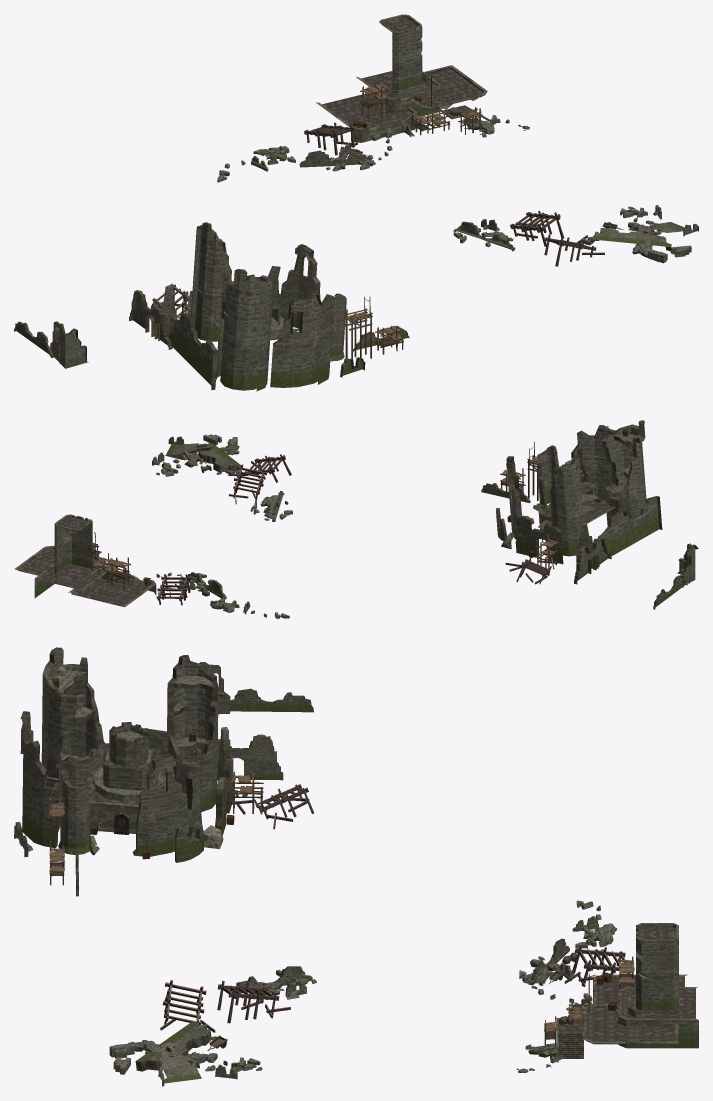
File: srpg_quests_porp03_all.FBX
3 renders of one model, top to bottom at view 1: azimuth 30°, elevation 25°; view 2: azimuth 150°, elevation 25°; view 3: azimuth 270°, elevation 25°, orthographic. The views are drawn at different scales.
Visible parts, largest first — view 1: srpg_quests_porp03_all; view 2: srpg_quests_porp03_all; view 3: srpg_quests_porp03_all.
Boxes of the visible parts, <box> form: srpg_quests_porp03_all: <box>14,14,698,391</box>; srpg_quests_porp03_all: <box>14,420,698,618</box>; srpg_quests_porp03_all: <box>14,647,698,1086</box>.
Bounding box in the file's own units: 125 × 24.08 × 98.23.
